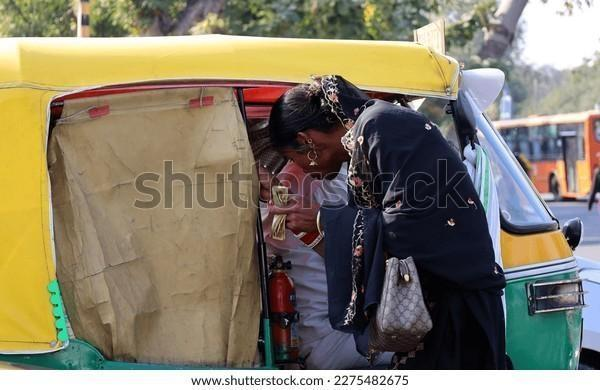keke: (6, 30, 596, 371)
